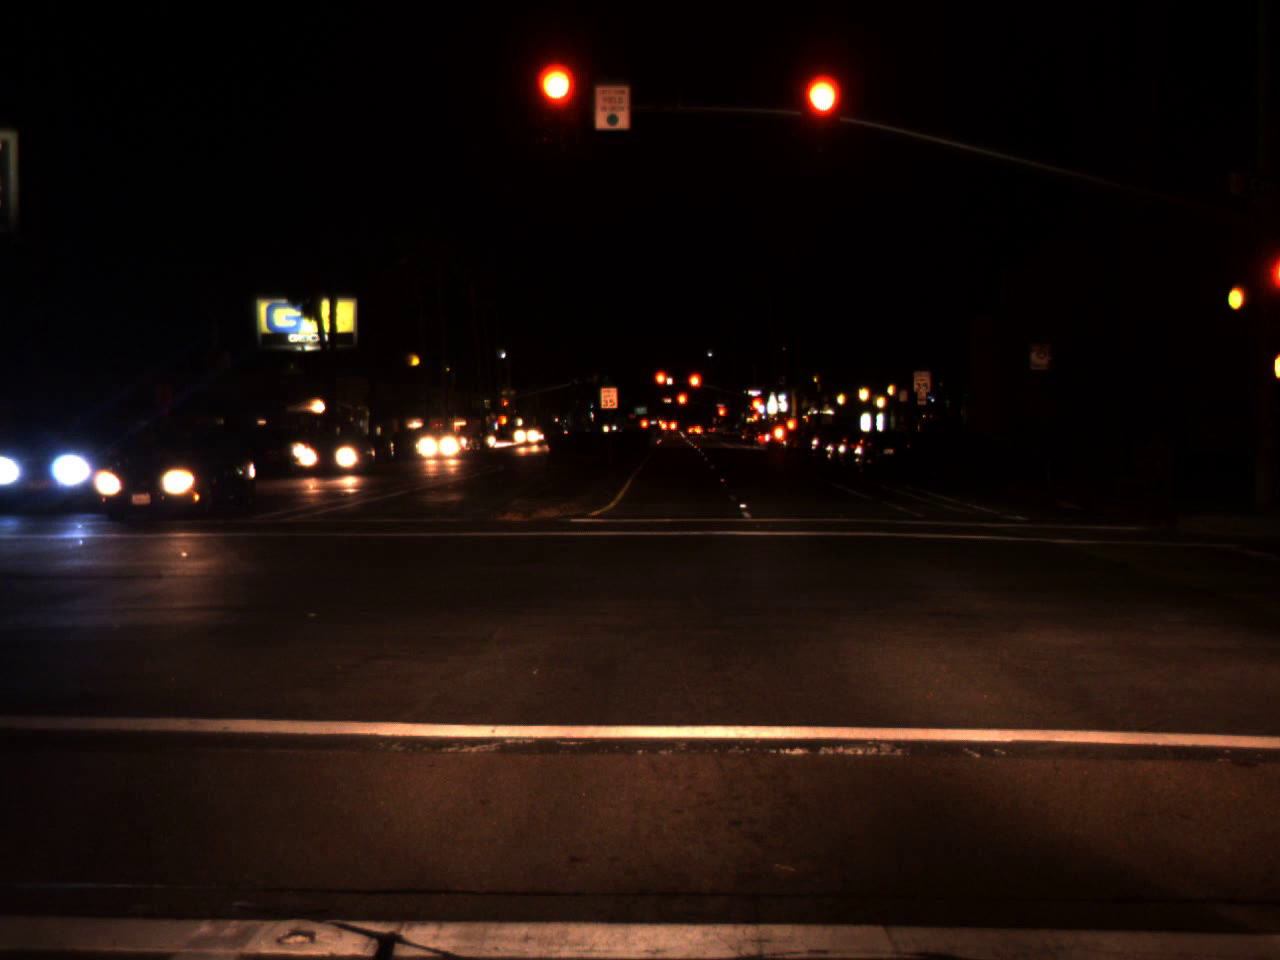stop: (537, 66, 577, 144), (802, 75, 841, 153), (653, 369, 671, 401), (686, 371, 702, 403), (675, 391, 688, 418), (717, 406, 726, 427), (751, 398, 763, 411), (503, 398, 509, 414)
